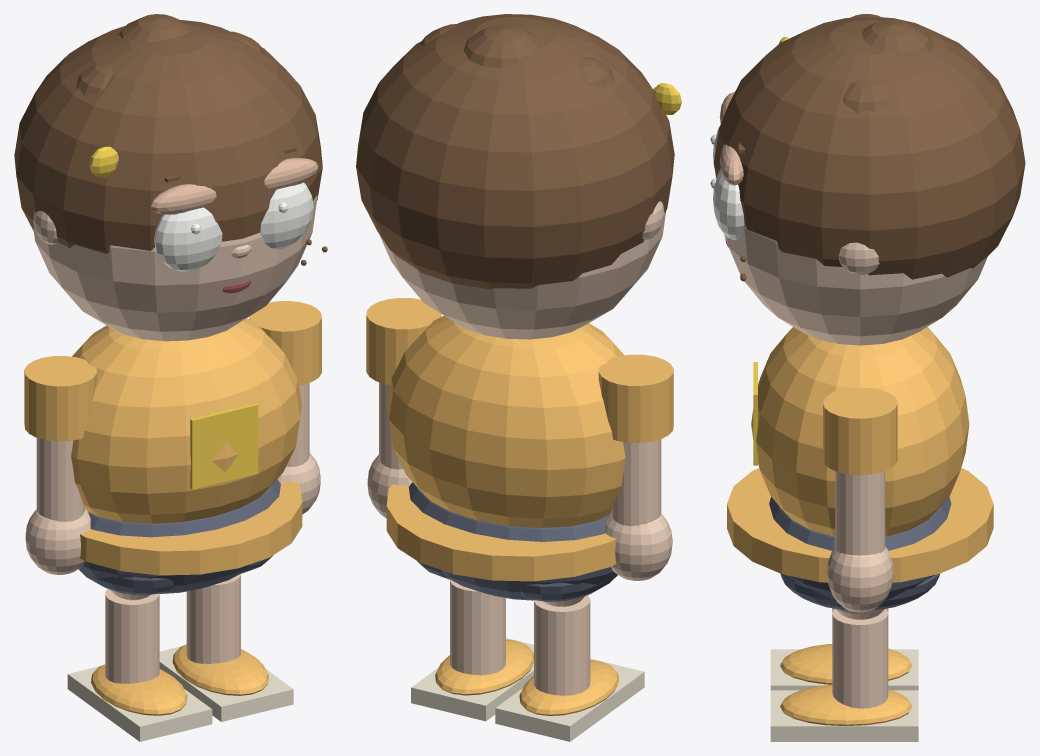
Rendered from kaan-character-v1.glb.
The picture shows the model from 3 angles, left to right: view 1: azimuth 30°, elevation 25°; view 2: azimuth 150°, elevation 25°; view 3: azimuth 270°, elevation 25°; orthographic projection. The views are drawn at different scales.
Visible parts, largest first — view 1: Hair_Cap, Torso_Shirt, Head, Shirt_Hem, Sleeve_L, Shin_L, Hips_Shorts, Shirt_Kite_Print, Shin_R, Sleeve_R, Sole_L, Eye_White_L (+15 smaller); view 2: Hair_Cap, Torso_Shirt, Head, Shirt_Hem, Sleeve_L, Shin_L, Hips_Shorts, Shin_R, Sleeve_R, Sole_L, Arm_L, Hand_L (+9 smaller); view 3: Hair_Cap, Torso_Shirt, Head, Shirt_Hem, Sleeve_R, Shin_R, Arm_R, Sole_R, Hand_R, Shoe_Upper_R, Hips_Shorts, Shoe_Upper_L (+7 smaller).
Part boxes in pixels (x1,y1,x2,y2): Hair_Cap: (14, 20, 322, 253); Torso_Shirt: (71, 318, 301, 523); Head: (33, 195, 317, 341); Shirt_Hem: (80, 481, 302, 575); Sleeve_L: (24, 356, 96, 441); Shin_L: (105, 588, 159, 683); Hips_Shorts: (78, 479, 280, 593); Shirt_Kite_Print: (190, 403, 258, 489); Shin_R: (186, 574, 240, 663); Sleeve_R: (249, 301, 321, 385); Sole_L: (67, 666, 212, 741); Eye_White_L: (154, 207, 222, 271); Hair_Cap: (356, 14, 674, 289); Torso_Shirt: (386, 316, 625, 527); Head: (379, 212, 665, 339); Shirt_Hem: (386, 484, 616, 581); Sleeve_L: (598, 354, 673, 442); Shin_L: (534, 595, 590, 695); Hips_Shorts: (408, 482, 617, 600); Shin_R: (450, 579, 505, 675); Sleeve_R: (366, 297, 441, 384); Sole_L: (495, 658, 644, 741); Arm_L: (611, 439, 661, 526); Hand_L: (605, 512, 672, 580); Hair_Cap: (713, 17, 1025, 279); Torso_Shirt: (751, 327, 969, 536); Head: (724, 224, 987, 345); Shirt_Hem: (727, 468, 993, 582); Sleeve_R: (823, 388, 897, 475); Shin_R: (832, 609, 888, 708); Arm_R: (835, 471, 885, 555); Sole_R: (770, 690, 918, 741); Hand_R: (826, 546, 893, 612); Shoe_Upper_R: (780, 684, 912, 725); Hips_Shorts: (769, 497, 951, 600); Shoe_Upper_L: (780, 644, 912, 684).
Size of the model in its own units: 0.3329 by 0.7304 by 0.3072.
